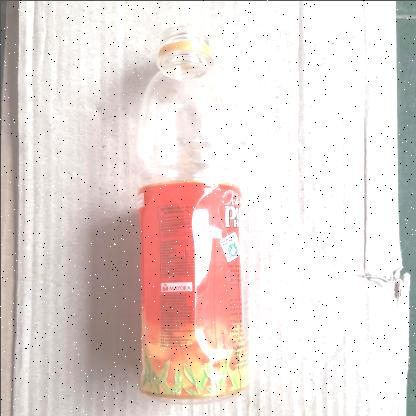Plastic Bottle: (134, 21, 250, 402)
